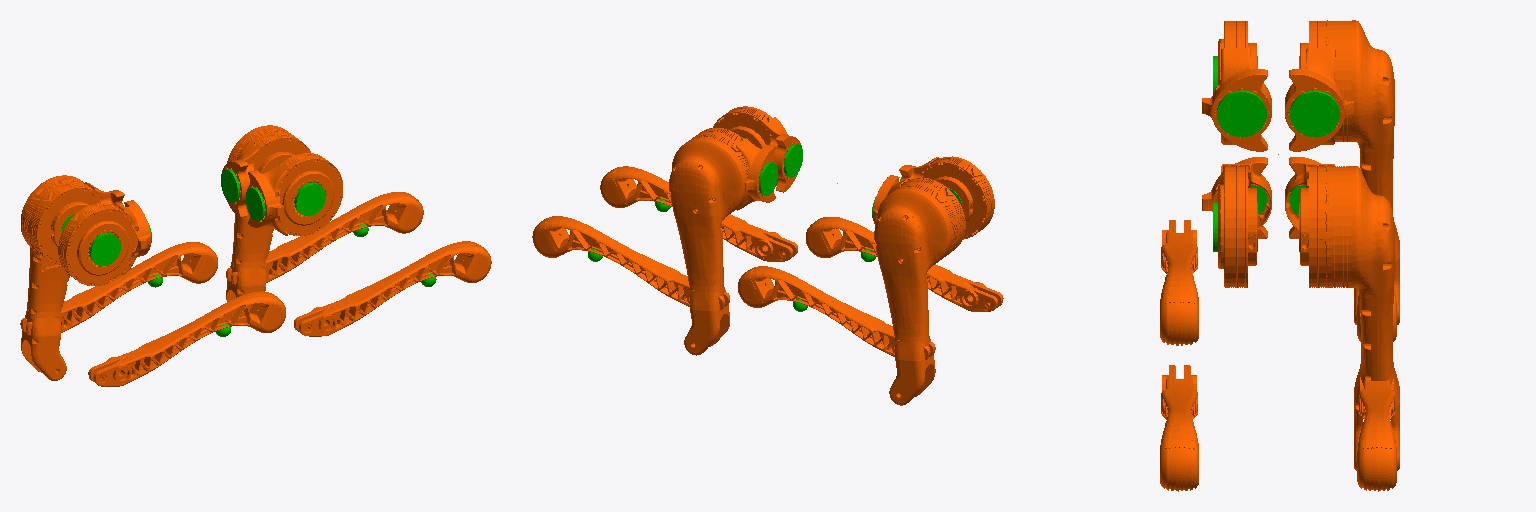
--- Facts derived from the render (not from the file) ---
Views: 3 orthographic renders of the robot side by side, from view 1: azimuth 30°, elevation 25°; view 2: azimuth 150°, elevation 25°; view 3: azimuth 270°, elevation 25°.
Model aliengo with 31 links and 30 joints (8 revolute, 4 continuous, 18 fixed), rooted at base, posed all joints at 0 but 4 set to mid-range because 0 is outside their limits (FR_calf_joint = -1.71, FL_calf_joint = -1.71, RR_calf_joint = -1.71, RL_calf_joint = -1.71).
Visible links, largest first — view 1: FR_calf, RR_calf, RL_thigh, RR_hip, FR_hip, FL_calf, RL_calf, FL_thigh, RL_hip, FL_hip, RR_thigh_rotor, FR_thigh_rotor; view 2: RL_thigh, FL_thigh, FL_calf, RL_calf, FR_calf, RR_calf, RR_hip, FR_hip, FL_hip, RL_hip; view 3: FL_thigh, RL_thigh, FR_hip, FR_calf, RR_calf, FL_hip, RR_hip, FL_calf, RL_hip, RR_hip_rotor, RL_hip_rotor.
Boxes of the visible links, bbox=[...] form: FR_calf: bbox=[294, 241, 491, 336]; RR_calf: bbox=[88, 291, 285, 386]; RL_thigh: bbox=[21, 175, 87, 380]; RR_hip: bbox=[58, 200, 150, 285]; FR_hip: bbox=[247, 153, 342, 235]; FL_calf: bbox=[226, 192, 423, 285]; RL_calf: bbox=[20, 242, 217, 335]; FL_thigh: bbox=[226, 125, 297, 330]; RL_hip: bbox=[29, 182, 124, 264]; FL_hip: bbox=[222, 132, 310, 217]; RR_thigh_rotor: bbox=[88, 232, 120, 265]; FR_thigh_rotor: bbox=[294, 182, 325, 215]; RL_thigh: bbox=[874, 182, 959, 405]; FL_thigh: bbox=[669, 132, 748, 355]; FL_calf: bbox=[532, 216, 729, 309]; RL_calf: bbox=[738, 266, 935, 359]; FR_calf: bbox=[600, 166, 797, 261]; RR_calf: bbox=[806, 217, 1003, 311]; RR_hip: bbox=[899, 156, 994, 239]; FR_hip: bbox=[713, 106, 801, 192]; FL_hip: bbox=[693, 128, 776, 210]; RL_hip: bbox=[873, 175, 965, 253]; FL_thigh: bbox=[1319, 166, 1399, 470]; RL_thigh: bbox=[1325, 20, 1399, 324]; FR_hip: bbox=[1202, 157, 1271, 287]; FR_calf: bbox=[1160, 365, 1198, 491]; RR_calf: bbox=[1160, 220, 1198, 345]; FL_hip: bbox=[1285, 157, 1334, 287]; RR_hip: bbox=[1202, 21, 1271, 151]; FL_calf: bbox=[1357, 377, 1396, 491]; RL_hip: bbox=[1285, 21, 1354, 151]; RR_hip_rotor: bbox=[1217, 90, 1266, 137]; RL_hip_rotor: bbox=[1290, 90, 1339, 137].
Bounding box of the posed robot: 0.9532 × 0.3351 × 0.4589 m (x, y, z).
10 mesh visuals loaded from 5 distinct referenced files (3 Collada DAE); not drawn: 3 (reference not matched to a file when rendering).

URDF robot description (aliengo):
<?xml version="1.0" ?>
<!-- =================================================================================== -->
<!-- |    This document was autogenerated by xacro from robot.xacro                    | -->
<!-- |    EDITING THIS FILE BY HAND IS NOT RECOMMENDED                                 | -->
<!-- =================================================================================== -->
<robot name="aliengo">
  <material name="black">
    <color rgba="0.0 0.0 0.0 1.0"/>
  </material>
  <material name="blue">
    <color rgba="0.0 0.0 0.8 1.0"/>
  </material>
  <material name="green">
    <color rgba="0.0 0.8 0.0 1.0"/>
  </material>
  <material name="grey">
    <color rgba="0.2 0.2 0.2 1.0"/>
  </material>
  <material name="silver">
    <color rgba="0.9137254901960784 0.9137254901960784 0.8470588235294118 1.0"/>
  </material>
  <material name="orange">
    <color rgba="1.0 0.4235294117647059 0.0392156862745098 1.0"/>
  </material>
  <material name="brown">
    <color rgba="0.8705882352941177 0.8117647058823529 0.7647058823529411 1.0"/>
  </material>
  <material name="red">
    <color rgba="0.8 0.0 0.0 1.0"/>
  </material>
  <material name="white">
    <color rgba="1.0 1.0 1.0 1.0"/>
  </material>
  <!-- ros_control plugin -->
  <gazebo>
    <plugin filename="libgazebo_ros_control.so" name="gazebo_ros_control">
      <robotNamespace>/aliengo_gazebo</robotNamespace>
      <robotSimType>gazebo_ros_control/DefaultRobotHWSim</robotSimType>
    </plugin>
  </gazebo>
  <!-- Show the trajectory of trunk center. -->
  <gazebo>
    <plugin filename="libLinkPlot3DPlugin.so" name="3dplot">
      <frequency>10</frequency>
      <plot>
        <link>base</link>
        <pose>0 0 0 0 0 0</pose>
        <material>Gazebo/Yellow</material>
      </plot>
    </plugin>
  </gazebo>
  <!-- Show the trajectory of foot. You can add another trajectory about another foot. -->
  <!-- <gazebo>
        <plugin name="3dplot" filename="libLinkPlot3DPlugin.so">
            <frequency>100</frequency>
            <plot>
                <link>FL_foot</link>
                <pose>0 0 0 0 0 0</pose>
                <material>Gazebo/Green</material>
            </plot>
        </plugin>
    </gazebo> -->
  <gazebo>
    <plugin filename="libgazebo_ros_force.so" name="gazebo_ros_force">
      <bodyName>trunk</bodyName>
      <topicName>/apply_force/trunk</topicName>
    </plugin>
  </gazebo>
  <gazebo reference="imu_link">
    <gravity>true</gravity>
    <sensor name="imu_sensor" type="imu">
      <always_on>true</always_on>
      <update_rate>1000</update_rate>
      <visualize>true</visualize>
      <topic>__default_topic__</topic>
      <plugin filename="libgazebo_ros_imu_sensor.so" name="imu_plugin">
        <topicName>trunk_imu</topicName>
        <bodyName>imu_link</bodyName>
        <updateRateHZ>1000.0</updateRateHZ>
        <gaussianNoise>0.0</gaussianNoise>
        <xyzOffset>0 0 0</xyzOffset>
        <rpyOffset>0 0 0</rpyOffset>
        <frameName>imu_link</frameName>
      </plugin>
      <pose>0 0 0 0 0 0</pose>
    </sensor>
  </gazebo>
  <!-- Foot contacts. -->
  <gazebo reference="FR_calf">
    <sensor name="FR_foot_contact" type="contact">
      <update_rate>100</update_rate>
      <plugin filename="libunitreeFootContactPlugin.so" name="contactPlugin"/>
      <contact>
        <collision>FR_calf_fixed_joint_lump__FR_foot_collision_1</collision>
      </contact>
    </sensor>
  </gazebo>
  <gazebo reference="FL_calf">
    <sensor name="FL_foot_contact" type="contact">
      <update_rate>100</update_rate>
      <plugin filename="libunitreeFootContactPlugin.so" name="contactPlugin"/>
      <contact>
        <collision>FL_calf_fixed_joint_lump__FL_foot_collision_1</collision>
      </contact>
    </sensor>
  </gazebo>
  <gazebo reference="RR_calf">
    <sensor name="RR_foot_contact" type="contact">
      <update_rate>100</update_rate>
      <plugin filename="libunitreeFootContactPlugin.so" name="contactPlugin"/>
      <contact>
        <collision>RR_calf_fixed_joint_lump__RR_foot_collision_1</collision>
      </contact>
    </sensor>
  </gazebo>
  <gazebo reference="RL_calf">
    <sensor name="RL_foot_contact" type="contact">
      <update_rate>100</update_rate>
      <plugin filename="libunitreeFootContactPlugin.so" name="contactPlugin"/>
      <contact>
        <collision>RL_calf_fixed_joint_lump__RL_foot_collision_1</collision>
      </contact>
    </sensor>
  </gazebo>
  <!-- Visualization of Foot contacts. -->
  <gazebo reference="FR_foot">
    <visual>
      <plugin filename="libunitreeDrawForcePlugin.so" name="drawForcePlugin">
        <topicName>FR_foot_contact</topicName>
      </plugin>
    </visual>
  </gazebo>
  <gazebo reference="FL_foot">
    <visual>
      <plugin filename="libunitreeDrawForcePlugin.so" name="drawForcePlugin">
        <topicName>FL_foot_contact</topicName>
      </plugin>
    </visual>
  </gazebo>
  <gazebo reference="RR_foot">
    <visual>
      <plugin filename="libunitreeDrawForcePlugin.so" name="drawForcePlugin">
        <topicName>RR_foot_contact</topicName>
      </plugin>
    </visual>
  </gazebo>
  <gazebo reference="RL_foot">
    <visual>
      <plugin filename="libunitreeDrawForcePlugin.so" name="drawForcePlugin">
        <topicName>RL_foot_contact</topicName>
      </plugin>
    </visual>
  </gazebo>
  <gazebo reference="base">
    <material>Gazebo/Green</material>
    <turnGravityOff>false</turnGravityOff>
  </gazebo>
  <gazebo reference="trunk">
    <mu1>0.2</mu1>
    <mu2>0.2</mu2>
    <kp value="1000000.0"/>
    <kd value="1.0"/>
  </gazebo>
  <gazebo reference="stick_link">
    <mu1>0.2</mu1>
    <mu2>0.2</mu2>
    <material>Gazebo/White</material>
  </gazebo>
  <gazebo reference="imu_link">
    <mu1>0.2</mu1>
    <mu2>0.2</mu2>
    <material>Gazebo/Red</material>
  </gazebo>
  <!-- FL leg -->
  <gazebo reference="FL_hip">
    <mu1>0.2</mu1>
    <mu2>0.2</mu2>
    <material>Gazebo/DarkGrey</material>
  </gazebo>
  <gazebo reference="FL_thigh">
    <mu1>0.2</mu1>
    <mu2>0.2</mu2>
    <self_collide>1</self_collide>
    <material>Gazebo/DarkGrey</material>
    <kp value="1000000.0"/>
    <kd value="1.0"/>
  </gazebo>
  <gazebo reference="FL_calf">
    <mu1>0.2</mu1>
    <mu2>0.2</mu2>
    <self_collide>1</self_collide>
  </gazebo>
  <gazebo reference="FL_foot">
    <mu1>0.6</mu1>
    <mu2>0.6</mu2>
    <self_collide>1</self_collide>
    <material>Gazebo/DarkGrey</material>
    <kp value="1000000.0"/>
    <kd value="1.0"/>
  </gazebo>
  <!-- FR leg -->
  <gazebo reference="FR_hip">
    <mu1>0.2</mu1>
    <mu2>0.2</mu2>
    <material>Gazebo/DarkGrey</material>
  </gazebo>
  <gazebo reference="FR_thigh">
    <mu1>0.2</mu1>
    <mu2>0.2</mu2>
    <self_collide>1</self_collide>
    <material>Gazebo/DarkGrey</material>
    <kp value="1000000.0"/>
    <kd value="1.0"/>
  </gazebo>
  <gazebo reference="FR_calf">
    <mu1>0.2</mu1>
    <mu2>0.2</mu2>
    <self_collide>1</self_collide>
  </gazebo>
  <gazebo reference="FR_foot">
    <mu1>0.6</mu1>
    <mu2>0.6</mu2>
    <self_collide>1</self_collide>
    <material>Gazebo/DarkGrey</material>
    <kp value="1000000.0"/>
    <kd value="1.0"/>
  </gazebo>
  <!-- RL leg -->
  <gazebo reference="RL_hip">
    <mu1>0.2</mu1>
    <mu2>0.2</mu2>
    <material>Gazebo/DarkGrey</material>
  </gazebo>
  <gazebo reference="RL_thigh">
    <mu1>0.2</mu1>
    <mu2>0.2</mu2>
    <self_collide>1</self_collide>
    <material>Gazebo/DarkGrey</material>
    <kp value="1000000.0"/>
    <kd value="1.0"/>
  </gazebo>
  <gazebo reference="RL_calf">
    <mu1>0.2</mu1>
    <mu2>0.2</mu2>
    <self_collide>1</self_collide>
  </gazebo>
  <gazebo reference="RL_foot">
    <mu1>0.6</mu1>
    <mu2>0.6</mu2>
    <self_collide>1</self_collide>
    <material>Gazebo/DarkGrey</material>
    <kp value="1000000.0"/>
    <kd value="1.0"/>
  </gazebo>
  <!-- RR leg -->
  <gazebo reference="RR_hip">
    <mu1>0.2</mu1>
    <mu2>0.2</mu2>
    <material>Gazebo/DarkGrey</material>
  </gazebo>
  <gazebo reference="RR_thigh">
    <mu1>0.2</mu1>
    <mu2>0.2</mu2>
    <self_collide>1</self_collide>
    <material>Gazebo/DarkGrey</material>
    <kp value="1000000.0"/>
    <kd value="1.0"/>
  </gazebo>
  <gazebo reference="RR_calf">
    <mu1>0.2</mu1>
    <mu2>0.2</mu2>
    <self_collide>1</self_collide>
  </gazebo>
  <gazebo reference="RR_foot">
    <mu1>0.6</mu1>
    <mu2>0.6</mu2>
    <self_collide>1</self_collide>
    <material>Gazebo/DarkGrey</material>
    <kp value="1000000.0"/>
    <kd value="1.0"/>
  </gazebo>
  <!-- Rotor related joint and link is only for demonstrate location. -->
  <!-- Actually, the rotor will rotate and the joint is not fixed. Reduction ratio should be considered. -->
  <!-- Debug mode will hung up the robot, use "true" or "false" to switch it. -->
  <!-- <xacro:if value="$(arg DEBUG)">
        <link name="world"/>
        <joint name="base_static_joint" type="fixed">
            <origin rpy="0 0 0" xyz="0 0 0"/>
            <parent link="world"/>
            <child link="base"/>
        </joint>
    </xacro:if>  -->
  <link name="base">
    <visual>
      <origin rpy="0 0 0" xyz="0 0 0"/>
      <geometry>
        <box size="0.001 0.001 0.001"/>
      </geometry>
    </visual>
  </link>
  <joint name="floating_base" type="fixed">
    <origin rpy="0 0 0" xyz="0 0 0"/>
    <parent link="base"/>
    <child link="trunk"/>
  </joint>
  <link name="trunk">
    <visual>
      <origin rpy="0 0 0" xyz="0 0 0"/>
      <geometry>
        <mesh filename="package://aliengo_description/meshes/trunk.dae" scale="1 1 1"/>
      </geometry>
      <material name="orange"/>
    </visual>
    <collision>
      <origin rpy="0 0 0" xyz="0 0 0"/>
      <geometry>
        <box size="0.647 0.15 0.112"/>
      </geometry>
    </collision>
    <!-- <collision>
            <origin rpy="0 0 0" xyz="0 0 0"/>
            <geometry>
                <mesh filename="package://aliengo_description/meshes/trunk.dae" scale="1 1 1"/>
            </geometry>
        </collision> -->
    <inertial>
      <origin rpy="0 0 0" xyz="0.008811 0.003839 0.000273"/>
      <mass value="11.644"/>
      <inertia ixx="0.051944892" ixy="0.001703617" ixz="0.000235941" iyy="0.24693924" iyz="0.000119783" izz="0.270948307"/>
    </inertial>
  </link>
  <joint name="imu_joint" type="fixed">
    <parent link="trunk"/>
    <child link="imu_link"/>
    <origin rpy="0 0 0" xyz="0 0 0"/>
  </joint>
  <link name="imu_link">
    <inertial>
      <mass value="0.001"/>
      <origin rpy="0 0 0" xyz="0 0 0"/>
      <inertia ixx="0.0001" ixy="0" ixz="0" iyy="0.000001" iyz="0" izz="0.0001"/>
    </inertial>
    <visual>
      <origin rpy="0 0 0" xyz="0 0 0"/>
      <geometry>
        <box size="0.001 0.001 0.001"/>
      </geometry>
      <material name="red"/>
    </visual>
    <collision>
      <origin rpy="0 0 0" xyz="0 0 0"/>
      <geometry>
        <box size=".001 .001 .001"/>
      </geometry>
    </collision>
  </link>
  <joint name="FR_hip_joint" type="revolute">
    <origin rpy="0 0 0" xyz="0.2407 -0.051 0"/>
    <parent link="trunk"/>
    <child link="FR_hip"/>
    <axis xyz="1 0 0"/>
    <dynamics damping="0" friction="0"/>
    <limit effort="35.278" lower="-1.2217304763960306" upper="1.2217304763960306" velocity="20"/>
  </joint>
  <joint name="FR_hip_rotor_joint" type="fixed">
    <origin rpy="0 0 0" xyz="0.139985 -0.051 0"/>
    <parent link="trunk"/>
    <child link="FR_hip_rotor"/>
  </joint>
  <link name="FR_hip">
    <visual>
      <origin rpy="3.141592653589793 0 0" xyz="0 0 0"/>
      <geometry>
        <mesh filename="package://aliengo_description/meshes/hip.dae" scale="1 1 1"/>
      </geometry>
      <material name="orange"/>
    </visual>
    <collision>
      <origin rpy="1.5707963267948966 0 0" xyz="0 -0.083 0"/>
      <geometry>
        <cylinder length="0.0418" radius="0.046"/>
      </geometry>
    </collision>
    <inertial>
      <origin rpy="0 0 0" xyz="-0.022191 -0.015144 -1.5e-05"/>
      <mass value="1.993"/>
      <inertia ixx="0.002446735" ixy="0.00059805" ixz="1.945e-06" iyy="0.003925876" iyz="-1.284e-06" izz="0.004148145"/>
    </inertial>
  </link>
  <link name="FR_hip_rotor">
    <visual>
      <origin rpy="0 1.5707963267948966 0" xyz="0 0 0"/>
      <geometry>
        <cylinder length="0.02" radius="0.035"/>
      </geometry>
      <material name="green"/>
    </visual>
    <collision>
      <origin rpy="0 1.5707963267948966 0" xyz="0 0 0"/>
      <geometry>
        <cylinder length="0.02" radius="0.035"/>
      </geometry>
    </collision>
    <inertial>
      <origin rpy="0 0 0" xyz="0.0 0.0 0.0"/>
      <mass value="0.146"/>
      <inertia ixx="0.000138702" ixy="0.0" ixz="0.0" iyy="8.3352e-05" iyz="0.0" izz="8.3352e-05"/>
    </inertial>
  </link>
  <joint name="FR_thigh_joint" type="continuous">
    <origin rpy="0 0 0" xyz="0 -0.0868 0"/>
    <parent link="FR_hip"/>
    <child link="FR_thigh"/>
    <axis xyz="0 1 0"/>
    <dynamics damping="0" friction="0"/>
    <limit effort="35.278" velocity="20"/>
  </joint>
  <joint name="FR_thigh_rotor_joint" type="fixed">
    <origin rpy="0 0 0" xyz="0.0 -0.0298 0"/>
    <parent link="FR_hip"/>
    <child link="FR_thigh_rotor"/>
  </joint>
  <link name="FR_thigh">
    <visual>
      <origin rpy="0 0 0" xyz="0 0 0"/>
      <geometry>
        <mesh filename="package://aliengo_description/meshes/thigh_mirror.dae" scale="1 1 1"/>
      </geometry>
      <material name="orange"/>
    </visual>
    <collision>
      <origin rpy="0 1.5707963267948966 0" xyz="0 0 -0.125"/>
      <geometry>
        <box size="0.25 0.0374 0.043"/>
      </geometry>
    </collision>
    <inertial>
      <origin rpy="0 0 0" xyz="-0.005607 0.003877 -0.048199"/>
      <mass value="0.639"/>
      <inertia ixx="0.004173855" ixy="-1.0284e-05" ixz="-0.000318874" iyy="0.004343802" iyz="-0.000109233" izz="0.000340136"/>
    </inertial>
  </link>
  <link name="FR_thigh_rotor">
    <visual>
      <origin rpy="1.5707963267948966 0 0" xyz="0 0 0"/>
      <geometry>
        <cylinder length="0.02" radius="0.035"/>
      </geometry>
      <material name="green"/>
    </visual>
    <collision>
      <origin rpy="1.5707963267948966 0 0" xyz="0 0 0"/>
      <geometry>
        <cylinder length="0.02" radius="0.035"/>
      </geometry>
    </collision>
    <inertial>
      <origin rpy="0 0 0" xyz="0.0 0.0 0.0"/>
      <mass value="0.146"/>
      <inertia ixx="8.3352e-05" ixy="0.0" ixz="0.0" iyy="0.000138702" iyz="0.0" izz="8.3352e-05"/>
    </inertial>
  </link>
  <joint name="FR_calf_joint" type="revolute">
    <origin rpy="0 0 0" xyz="0 0 -0.25"/>
    <parent link="FR_thigh"/>
    <child link="FR_calf"/>
    <axis xyz="0 1 0"/>
    <dynamics damping="0" friction="0"/>
    <limit effort="44.4" lower="-2.775073510670984" upper="-0.6457718232379019" velocity="15.89"/>
  </joint>
  <joint name="FR_calf_rotor_joint" type="fixed">
    <origin rpy="0 0 0" xyz="0.0 0.0997 0"/>
    <parent link="FR_thigh"/>
    <child link="FR_calf_rotor"/>
  </joint>
  <link name="FR_calf">
    <visual>
      <origin rpy="0 0 0" xyz="0 0 0"/>
      <geometry>
        <mesh filename="package://aliengo_description/meshes/calf.dae" scale="1 1 1"/>
      </geometry>
      <material name="orange"/>
    </visual>
    <collision>
      <origin rpy="0 1.5707963267948966 0" xyz="0 0 -0.125"/>
      <geometry>
        <box size="0.25 0.0208 0.016"/>
      </geometry>
    </collision>
    <inertial>
      <origin rpy="0 0 0" xyz="0.002781 6.3e-05 -0.142518"/>
      <mass value="0.207"/>
      <inertia ixx="0.002129279" ixy="3.9e-08" ixz="5.757e-06" iyy="0.002141463" iyz="-5.16e-07" izz="3.7583e-05"/>
    </inertial>
  </link>
  <link name="FR_calf_rotor">
    <visual>
      <origin rpy="1.5707963267948966 0 0" xyz="0 0 0"/>
      <geometry>
        <cylinder length="0.02" radius="0.035"/>
      </geometry>
      <material name="green"/>
    </visual>
    <collision>
      <origin rpy="1.5707963267948966 0 0" xyz="0 0 0"/>
      <geometry>
        <cylinder length="0.02" radius="0.035"/>
      </geometry>
    </collision>
    <inertial>
      <origin rpy="0 0 0" xyz="0.0 0.0 0.0"/>
      <mass value="0.132"/>
      <inertia ixx="0.000145463" ixy="0.0" ixz="0.0" iyy="0.000133031" iyz="0.0" izz="0.000145463"/>
    </inertial>
  </link>
  <joint name="FR_foot_fixed" type="fixed">
    <origin rpy="0 0 0" xyz="0 0 -0.25"/>
    <parent link="FR_calf"/>
    <child link="FR_foot"/>
  </joint>
  <link name="FR_foot">
    <visual>
      <origin rpy="0 0 0" xyz="0 0 0"/>
      <geometry>
        <sphere radius="0.0165"/>
      </geometry>
      <material name="green"/>
    </visual>
    <collision>
      <origin rpy="0 0 0" xyz="0 0 0"/>
      <geometry>
        <sphere radius="0.0265"/>
      </geometry>
    </collision>
    <inertial>
      <mass value="0.06"/>
      <inertia ixx="1.6853999999999998e-05" ixy="0.0" ixz="0.0" iyy="1.6853999999999998e-05" iyz="0.0" izz="1.6853999999999998e-05"/>
    </inertial>
  </link>
  <transmission name="FR_hip_tran">
    <type>transmission_interface/SimpleTransmission</type>
    <joint name="FR_hip_joint">
      <hardwareInterface>hardware_interface/EffortJointInterface</hardwareInterface>
    </joint>
    <actuator name="FR_hip_motor">
      <hardwareInterface>hardware_interface/EffortJointInterface</hardwareInterface>
      <mechanicalReduction>1</mechanicalReduction>
    </actuator>
  </transmission>
  <transmission name="FR_thigh_tran">
    <type>transmission_interface/SimpleTransmission</type>
    <joint name="FR_thigh_joint">
      <hardwareInterface>hardware_interface/EffortJointInterface</hardwareInterface>
    </joint>
    <actuator name="FR_thigh_motor">
      <hardwareInterface>hardware_interface/EffortJointInterface</hardwareInterface>
      <mechanicalReduction>1</mechanicalReduction>
    </actuator>
  </transmission>
  <transmission name="FR_calf_tran">
    <type>transmission_interface/SimpleTransmission</type>
    <joint name="FR_calf_joint">
      <hardwareInterface>hardware_interface/EffortJointInterface</hardwareInterface>
    </joint>
    <actuator name="FR_calf_motor">
      <hardwareInterface>hardware_interface/EffortJointInterface</hardwareInterface>
      <mechanicalReduction>1</mechanicalReduction>
    </actuator>
  </transmission>
  <joint name="FL_hip_joint" type="revolute">
    <origin rpy="0 0 0" xyz="0.2407 0.051 0"/>
    <parent link="trunk"/>
    <child link="FL_hip"/>
    <axis xyz="1 0 0"/>
    <dynamics damping="0" friction="0"/>
    <limit effort="35.278" lower="-1.2217304763960306" upper="1.2217304763960306" velocity="20"/>
  </joint>
  <joint name="FL_hip_rotor_joint" type="fixed">
    <origin rpy="0 0 0" xyz="0.139985 0.051 0"/>
    <parent link="trunk"/>
    <child link="FL_hip_rotor"/>
  </joint>
  <link name="FL_hip">
    <visual>
      <origin rpy="0 0 0" xyz="0 0 0"/>
      <geometry>
        <mesh filename="package://aliengo_description/meshes/hip.dae" scale="1 1 1"/>
      </geometry>
      <material name="orange"/>
    </visual>
    <collision>
      <origin rpy="1.5707963267948966 0 0" xyz="0 0.083 0"/>
      <geometry>
        <cylinder length="0.0418" radius="0.046"/>
      </geometry>
    </collision>
    <inertial>
      <origin rpy="0 0 0" xyz="-0.022191 0.015144 -1.5e-05"/>
      <mass value="1.993"/>
      <inertia ixx="0.002446735" ixy="-0.00059805" ixz="1.945e-06" iyy="0.003925876" iyz="1.284e-06" izz="0.004148145"/>
    </inertial>
  </link>
  <link name="FL_hip_rotor">
    <visual>
      <origin rpy="0 1.5707963267948966 0" xyz="0 0 0"/>
      <geometry>
        <cylinder length="0.02" radius="0.035"/>
      </geometry>
      <material name="green"/>
    </visual>
    <collision>
      <origin rpy="0 1.5707963267948966 0" xyz="0 0 0"/>
      <geometry>
        <cylinder length="0.02" radius="0.035"/>
      </geometry>
    </collision>
    <inertial>
      <origin rpy="0 0 0" xyz="0.0 0.0 0.0"/>
      <mass value="0.146"/>
      <inertia ixx="0.000138702" ixy="0.0" ixz="0.0" iyy="8.3352e-05" iyz="0.0" izz="8.3352e-05"/>
    </inertial>
  </link>
  <joint name="FL_thigh_joint" type="continuous">
    <origin rpy="0 0 0" xyz="0 0.0868 0"/>
    <parent link="FL_hip"/>
    <child link="FL_thigh"/>
    <axis xyz="0 1 0"/>
    <dynamics damping="0" friction="0"/>
    <limit effort="35.278" velocity="20"/>
  </joint>
  <joint name="FL_thigh_rotor_joint" type="fixed">
    <origin rpy="0 0 0" xyz="0.0 0.0298 0"/>
    <parent link="FL_hip"/>
    <child link="FL_thigh_rotor"/>
  </joint>
  <link name="FL_thigh">
    <visual>
      <origin rpy="0 0 0" xyz="0 0 0"/>
      <geometry>
        <mesh filename="package://aliengo_description/meshes/thigh.dae" scale="1 1 1"/>
      </geometry>
      <material name="orange"/>
    </visual>
    <collision>
      <origin rpy="0 1.5707963267948966 0" xyz="0 0 -0.125"/>
      <geometry>
        <box size="0.25 0.0374 0.043"/>
      </geometry>
    </collision>
    <inertial>
      <origin rpy="0 0 0" xyz="-0.005607 -0.003877 -0.048199"/>
      <mass value="0.639"/>
      <inertia ixx="0.004173855" ixy="1.0284e-05" ixz="-0.000318874" iyy="0.004343802" iyz="0.000109233" izz="0.000340136"/>
    </inertial>
  </link>
  <link name="FL_thigh_rotor">
    <visual>
      <origin rpy="1.5707963267948966 0 0" xyz="0 0 0"/>
      <geometry>
        <cylinder length="0.02" radius="0.035"/>
      </geometry>
      <material name="green"/>
    </visual>
    <collision>
      <origin rpy="1.5707963267948966 0 0" xyz="0 0 0"/>
      <geometry>
        <cylinder length="0.02" radius="0.035"/>
      </geometry>
    </collision>
    <inertial>
      <origin rpy="0 0 0" xyz="0.0 0.0 0.0"/>
      <mass value="0.146"/>
      <inertia ixx="8.3352e-05" ixy="0.0" ixz="0.0" iyy="0.000138702" iyz="0.0" izz="8.3352e-05"/>
    </inertial>
  </link>
  <joint name="FL_calf_joint" type="revolute">
    <origin rpy="0 0 0" xyz="0 0 -0.25"/>
    <parent link="FL_thigh"/>
    <child link="FL_calf"/>
    <axis xyz="0 1 0"/>
    <dynamics damping="0" friction="0"/>
    <limit effort="44.4" lower="-2.775073510670984" upper="-0.6457718232379019" velocity="15.89"/>
  </joint>
  <joint name="FL_calf_rotor_joint" type="fixed">
    <origin rpy="0 0 0" xyz="0.0 -0.0997 0"/>
    <parent link="FL_thigh"/>
    <child link="FL_calf_rotor"/>
  </joint>
  <link name="FL_calf">
    <visual>
      <origin rpy="0 0 0" xyz="0 0 0"/>
      <geometry>
        <mesh filename="package://aliengo_description/meshes/calf.dae" scale="1 1 1"/>
      </geometry>
      <material name="orange"/>
    </visual>
    <collision>
      <origin rpy="0 1.5707963267948966 0" xyz="0 0 -0.125"/>
      <geometry>
        <box size="0.25 0.0208 0.016"/>
      </geometry>
    </collision>
    <inertial>
      <origin rpy="0 0 0" xyz="0.002781 6.3e-05 -0.142518"/>
      <mass value="0.207"/>
      <inertia ixx="0.002129279" ixy="3.9e-08" ixz="5.757e-06" iyy="0.002141463" iyz="-5.16e-07" izz="3.7583e-05"/>
    </inertial>
  </link>
  <link name="FL_calf_rotor">
    <visual>
      <origin rpy="1.5707963267948966 0 0" xyz="0 0 0"/>
      <geometry>
        <cylinder length="0.02" radius="0.035"/>
      </geometry>
      <material name="green"/>
    </visual>
    <collision>
      <origin rpy="1.5707963267948966 0 0" xyz="0 0 0"/>
      <geometry>
        <cylinder length="0.02" radius="0.035"/>
      </geometry>
    </collision>
    <inertial>
      <origin rpy="0 0 0" xyz="0.0 0.0 0.0"/>
      <mass value="0.132"/>
      <inertia ixx="0.000145463" ixy="0.0" ixz="0.0" iyy="0.000133031" iyz="0.0" izz="0.000145463"/>
    </inertial>
  </link>
  <joint name="FL_foot_fixed" type="fixed">
    <origin rpy="0 0 0" xyz="0 0 -0.25"/>
    <parent link="FL_calf"/>
    <child link="FL_foot"/>
  </joint>
  <link name="FL_foot">
    <visual>
      <origin rpy="0 0 0" xyz="0 0 0"/>
      <geometry>
        <sphere radius="0.0165"/>
      </geometry>
      <material name="green"/>
    </visual>
    <collision>
      <origin rpy="0 0 0" xyz="0 0 0"/>
      <geometry>
        <sphere radius="0.0265"/>
      </geometry>
    </collision>
    <inertial>
      <mass value="0.06"/>
      <inertia ixx="1.6853999999999998e-05" ixy="0.0" ixz="0.0" iyy="1.6853999999999998e-05" iyz="0.0" izz="1.6853999999999998e-05"/>
    </inertial>
  </link>
  <transmission name="FL_hip_tran">
    <type>transmission_interface/SimpleTransmission</type>
    <joint name="FL_hip_joint">
      <hardwareInterface>hardware_interface/EffortJointInterface</hardwareInterface>
    </joint>
    <actuator name="FL_hip_motor">
      <hardwareInterface>hardware_interface/EffortJointInterface</hardwareInterface>
      <mechanicalReduction>1</mechanicalReduction>
    </actuator>
  </transmission>
  <transmission name="FL_thigh_tran">
    <type>transmission_interface/SimpleTransmission</type>
    <joint name="FL_thigh_joint">
      <hardwareInterface>hardware_interface/EffortJointInterface</hardwareInterface>
    </joint>
    <actuator name="FL_thigh_motor">
      <hardwareInterface>hardware_interface/EffortJointInterface</hardwareInterface>
      <mechanicalReduction>1</mechanicalReduction>
    </actuator>
  </transmission>
  <transmission name="FL_calf_tran">
    <type>transmission_interface/SimpleTransmission</type>
    <joint name="FL_calf_joint">
      <hardwareInterface>hardware_interface/EffortJointInterface</hardwareInterface>
    </joint>
    <actuator name="FL_calf_motor">
      <hardwareInterface>hardware_interface/EffortJointInterface</hardwareInterface>
      <mechanicalReduction>1</mechanicalReduction>
    </actuator>
  </transmission>
  <joint name="RR_hip_joint" type="revolute">
    <origin rpy="0 0 0" xyz="-0.2407 -0.051 0"/>
    <parent link="trunk"/>
    <child link="RR_hip"/>
    <axis xyz="1 0 0"/>
    <dynamics damping="0" friction="0"/>
    <limit effort="35.278" lower="-1.2217304763960306" upper="1.2217304763960306" velocity="20"/>
  </joint>
  <joint name="RR_hip_rotor_joint" type="fixed">
    <origin rpy="0 0 0" xyz="-0.139985 -0.051 0"/>
    <parent link="trunk"/>
    <child link="RR_hip_rotor"/>
  </joint>
  <link name="RR_hip">
    <visual>
      <origin rpy="3.141592653589793 3.141592653589793 0" xyz="0 0 0"/>
      <geometry>
        <mesh filename="package://aliengo_description/meshes/hip.dae" scale="1 1 1"/>
      </geometry>
      <material name="orange"/>
    </visual>
    <collision>
      <origin rpy="1.5707963267948966 0 0" xyz="0 -0.083 0"/>
      <geometry>
        <cylinder length="0.0418" radius="0.046"/>
      </geometry>
    </collision>
    <inertial>
      <origin rpy="0 0 0" xyz="0.022191 -0.015144 -1.5e-05"/>
      <mass value="1.993"/>
      <inertia ixx="0.002446735" ixy="-0.00059805" ixz="-1.945e-06" iyy="0.003925876" iyz="-1.284e-06" izz="0.004148145"/>
    </inertial>
  </link>
  <link name="RR_hip_rotor">
    <visual>
      <origin rpy="0 1.5707963267948966 0" xyz="0 0 0"/>
      <geometry>
        <cylinder length="0.02" radius="0.035"/>
      </geometry>
      <material name="green"/>
    </visual>
    <collision>
      <origin rpy="0 1.5707963267948966 0" xyz="0 0 0"/>
      <geometry>
        <cylinder length="0.02" radius="0.035"/>
      </geometry>
    </collision>
    <inertial>
      <origin rpy="0 0 0" xyz="0.0 0.0 0.0"/>
      <mass value="0.146"/>
      <inertia ixx="0.000138702" ixy="0.0" ixz="0.0" iyy="8.3352e-05" iyz="0.0" izz="8.3352e-05"/>
    </inertial>
  </link>
  <joint name="RR_thigh_joint" type="continuous">
    <origin rpy="0 0 0" xyz="0 -0.0868 0"/>
    <parent link="RR_hip"/>
    <child link="RR_thigh"/>
    <axis xyz="0 1 0"/>
    <dynamics damping="0" friction="0"/>
    <limit effort="35.278" velocity="20"/>
  </joint>
  <joint name="RR_thigh_rotor_joint" type="fixed">
    <origin rpy="0 0 0" xyz="0.0 -0.0298 0"/>
    <parent link="RR_hip"/>
    <child link="RR_thigh_rotor"/>
  </joint>
  <link name="RR_thigh">
    <visual>
      <origin rpy="0 0 0" xyz="0 0 0"/>
      <geometry>
        <mesh filename="package://aliengo_description/meshes/thigh_mirror.dae" scale="1 1 1"/>
      </geometry>
      <material name="orange"/>
    </visual>
    <collision>
      <origin rpy="0 1.5707963267948966 0" xyz="0 0 -0.125"/>
      <geometry>
        <box size="0.25 0.0374 0.043"/>
      </geometry>
    </collision>
    <inertial>
      <origin rpy="0 0 0" xyz="-0.005607 0.003877 -0.048199"/>
      <mass value="0.639"/>
      <inertia ixx="0.004173855" ixy="-1.0284e-05" ixz="-0.000318874" iyy="0.004343802" iyz="-0.000109233" izz="0.000340136"/>
    </inertial>
  </link>
  <link name="RR_thigh_rotor">
    <visual>
      <origin rpy="1.5707963267948966 0 0" xyz="0 0 0"/>
      <geometry>
        <cylinder length="0.02" radius="0.035"/>
      </geometry>
      <material name="green"/>
    </visual>
    <collision>
      <origin rpy="1.5707963267948966 0 0" xyz="0 0 0"/>
      <geometry>
        <cylinder length="0.02" radius="0.035"/>
      </geometry>
    </collision>
    <inertial>
      <origin rpy="0 0 0" xyz="0.0 0.0 0.0"/>
      <mass value="0.146"/>
      <inertia ixx="8.3352e-05" ixy="0.0" ixz="0.0" iyy="0.000138702" iyz="0.0" izz="8.3352e-05"/>
    </inertial>
  </link>
  <joint name="RR_calf_joint" type="revolute">
    <origin rpy="0 0 0" xyz="0 0 -0.25"/>
    <parent link="RR_thigh"/>
    <child link="RR_calf"/>
    <axis xyz="0 1 0"/>
    <dynamics damping="0" friction="0"/>
    <limit effort="44.4" lower="-2.775073510670984" upper="-0.6457718232379019" velocity="15.89"/>
  </joint>
  <joint name="RR_calf_rotor_joint" type="fixed">
    <origin rpy="0 0 0" xyz="0.0 0.0997 0"/>
    <parent link="RR_thigh"/>
    <child link="RR_calf_rotor"/>
  </joint>
  <link name="RR_calf">
    <visual>
      <origin rpy="0 0 0" xyz="0 0 0"/>
      <geometry>
        <mesh filename="package://aliengo_description/meshes/calf.dae" scale="1 1 1"/>
      </geometry>
      <material name="orange"/>
    </visual>
    <collision>
      <origin rpy="0 1.5707963267948966 0" xyz="0 0 -0.125"/>
      <geometry>
        <box size="0.25 0.0208 0.016"/>
      </geometry>
    </collision>
    <inertial>
      <origin rpy="0 0 0" xyz="0.002781 6.3e-05 -0.142518"/>
      <mass value="0.207"/>
      <inertia ixx="0.002129279" ixy="3.9e-08" ixz="5.757e-06" iyy="0.002141463" iyz="-5.16e-07" izz="3.7583e-05"/>
    </inertial>
  </link>
  <link name="RR_calf_rotor">
    <visual>
      <origin rpy="1.5707963267948966 0 0" xyz="0 0 0"/>
      <geometry>
        <cylinder length="0.02" radius="0.035"/>
      </geometry>
      <material name="green"/>
    </visual>
    <collision>
      <origin rpy="1.5707963267948966 0 0" xyz="0 0 0"/>
      <geometry>
        <cylinder length="0.02" radius="0.035"/>
      </geometry>
    </collision>
    <inertial>
      <origin rpy="0 0 0" xyz="0.0 0.0 0.0"/>
      <mass value="0.132"/>
      <inertia ixx="0.000145463" ixy="0.0" ixz="0.0" iyy="0.000133031" iyz="0.0" izz="0.000145463"/>
    </inertial>
  </link>
  <joint name="RR_foot_fixed" type="fixed">
    <origin rpy="0 0 0" xyz="0 0 -0.25"/>
    <parent link="RR_calf"/>
    <child link="RR_foot"/>
  </joint>
  <link name="RR_foot">
    <visual>
      <origin rpy="0 0 0" xyz="0 0 0"/>
      <geometry>
        <sphere radius="0.0165"/>
      </geometry>
      <material name="green"/>
    </visual>
    <collision>
      <origin rpy="0 0 0" xyz="0 0 0"/>
      <geometry>
        <sphere radius="0.0265"/>
      </geometry>
    </collision>
    <inertial>
      <mass value="0.06"/>
      <inertia ixx="1.6853999999999998e-05" ixy="0.0" ixz="0.0" iyy="1.6853999999999998e-05" iyz="0.0" izz="1.6853999999999998e-05"/>
    </inertial>
  </link>
  <transmission name="RR_hip_tran">
    <type>transmission_interface/SimpleTransmission</type>
    <joint name="RR_hip_joint">
      <hardwareInterface>hardware_interface/EffortJointInterface</hardwareInterface>
    </joint>
    <actuator name="RR_hip_motor">
      <hardwareInterface>hardware_interface/EffortJointInterface</hardwareInterface>
      <mechanicalReduction>1</mechanicalReduction>
    </actuator>
  </transmission>
  <transmission name="RR_thigh_tran">
    <type>transmission_interface/SimpleTransmission</type>
    <joint name="RR_thigh_joint">
      <hardwareInterface>hardware_interface/EffortJointInterface</hardwareInterface>
    </joint>
    <actuator name="RR_thigh_motor">
      <hardwareInterface>hardware_interface/EffortJointInterface</hardwareInterface>
      <mechanicalReduction>1</mechanicalReduction>
    </actuator>
  </transmission>
  <transmission name="RR_calf_tran">
    <type>transmission_interface/SimpleTransmission</type>
    <joint name="RR_calf_joint">
      <hardwareInterface>hardware_interface/EffortJointInterface</hardwareInterface>
    </joint>
    <actuator name="RR_calf_motor">
      <hardwareInterface>hardware_interface/EffortJointInterface</hardwareInterface>
      <mechanicalReduction>1</mechanicalReduction>
    </actuator>
  </transmission>
  <joint name="RL_hip_joint" type="revolute">
    <origin rpy="0 0 0" xyz="-0.2407 0.051 0"/>
    <parent link="trunk"/>
    <child link="RL_hip"/>
    <axis xyz="1 0 0"/>
    <dynamics damping="0" friction="0"/>
    <limit effort="35.278" lower="-1.2217304763960306" upper="1.2217304763960306" velocity="20"/>
  </joint>
  <joint name="RL_hip_rotor_joint" type="fixed">
    <origin rpy="0 0 0" xyz="-0.139985 0.051 0"/>
    <parent link="trunk"/>
    <child link="RL_hip_rotor"/>
  </joint>
  <link name="RL_hip">
    <visual>
      <origin rpy="0 3.141592653589793 0" xyz="0 0 0"/>
      <geometry>
        <mesh filename="package://aliengo_description/meshes/hip.dae" scale="1 1 1"/>
      </geometry>
      <material name="orange"/>
    </visual>
    <collision>
      <origin rpy="1.5707963267948966 0 0" xyz="0 0.083 0"/>
      <geometry>
        <cylinder length="0.0418" radius="0.046"/>
      </geometry>
    </collision>
    <inertial>
      <origin rpy="0 0 0" xyz="0.022191 0.015144 -1.5e-05"/>
      <mass value="1.993"/>
      <inertia ixx="0.002446735" ixy="0.00059805" ixz="-1.945e-06" iyy="0.003925876" iyz="1.284e-06" izz="0.004148145"/>
    </inertial>
  </link>
  <link name="RL_hip_rotor">
    <visual>
      <origin rpy="0 1.5707963267948966 0" xyz="0 0 0"/>
      <geometry>
        <cylinder length="0.02" radius="0.035"/>
      </geometry>
      <material name="green"/>
    </visual>
    <collision>
      <origin rpy="0 1.5707963267948966 0" xyz="0 0 0"/>
      <geometry>
        <cylinder length="0.02" radius="0.035"/>
      </geometry>
    </collision>
    <inertial>
      <origin rpy="0 0 0" xyz="0.0 0.0 0.0"/>
      <mass value="0.146"/>
      <inertia ixx="0.000138702" ixy="0.0" ixz="0.0" iyy="8.3352e-05" iyz="0.0" izz="8.3352e-05"/>
    </inertial>
  </link>
  <joint name="RL_thigh_joint" type="continuous">
    <origin rpy="0 0 0" xyz="0 0.0868 0"/>
    <parent link="RL_hip"/>
    <child link="RL_thigh"/>
    <axis xyz="0 1 0"/>
    <dynamics damping="0" friction="0"/>
    <limit effort="35.278" velocity="20"/>
  </joint>
  <joint name="RL_thigh_rotor_joint" type="fixed">
    <origin rpy="0 0 0" xyz="0.0 0.0298 0"/>
    <parent link="RL_hip"/>
    <child link="RL_thigh_rotor"/>
  </joint>
  <link name="RL_thigh">
    <visual>
      <origin rpy="0 0 0" xyz="0 0 0"/>
      <geometry>
        <mesh filename="package://aliengo_description/meshes/thigh.dae" scale="1 1 1"/>
      </geometry>
      <material name="orange"/>
    </visual>
    <collision>
      <origin rpy="0 1.5707963267948966 0" xyz="0 0 -0.125"/>
      <geometry>
        <box size="0.25 0.0374 0.043"/>
      </geometry>
    </collision>
    <inertial>
      <origin rpy="0 0 0" xyz="-0.005607 -0.003877 -0.048199"/>
      <mass value="0.639"/>
      <inertia ixx="0.004173855" ixy="1.0284e-05" ixz="-0.000318874" iyy="0.004343802" iyz="0.000109233" izz="0.000340136"/>
    </inertial>
  </link>
  <link name="RL_thigh_rotor">
    <visual>
      <origin rpy="1.5707963267948966 0 0" xyz="0 0 0"/>
      <geometry>
        <cylinder length="0.02" radius="0.035"/>
      </geometry>
      <material name="green"/>
    </visual>
    <collision>
      <origin rpy="1.5707963267948966 0 0" xyz="0 0 0"/>
      <geometry>
        <cylinder length="0.02" radius="0.035"/>
      </geometry>
    </collision>
    <inertial>
      <origin rpy="0 0 0" xyz="0.0 0.0 0.0"/>
      <mass value="0.146"/>
      <inertia ixx="8.3352e-05" ixy="0.0" ixz="0.0" iyy="0.000138702" iyz="0.0" izz="8.3352e-05"/>
    </inertial>
  </link>
  <joint name="RL_calf_joint" type="revolute">
    <origin rpy="0 0 0" xyz="0 0 -0.25"/>
    <parent link="RL_thigh"/>
    <child link="RL_calf"/>
    <axis xyz="0 1 0"/>
    <dynamics damping="0" friction="0"/>
    <limit effort="44.4" lower="-2.775073510670984" upper="-0.6457718232379019" velocity="15.89"/>
  </joint>
  <joint name="RL_calf_rotor_joint" type="fixed">
    <origin rpy="0 0 0" xyz="0.0 -0.0997 0"/>
    <parent link="RL_thigh"/>
    <child link="RL_calf_rotor"/>
  </joint>
  <link name="RL_calf">
    <visual>
      <origin rpy="0 0 0" xyz="0 0 0"/>
      <geometry>
        <mesh filename="package://aliengo_description/meshes/calf.dae" scale="1 1 1"/>
      </geometry>
      <material name="orange"/>
    </visual>
    <collision>
      <origin rpy="0 1.5707963267948966 0" xyz="0 0 -0.125"/>
      <geometry>
        <box size="0.25 0.0208 0.016"/>
      </geometry>
    </collision>
    <inertial>
      <origin rpy="0 0 0" xyz="0.002781 6.3e-05 -0.142518"/>
      <mass value="0.207"/>
      <inertia ixx="0.002129279" ixy="3.9e-08" ixz="5.757e-06" iyy="0.002141463" iyz="-5.16e-07" izz="3.7583e-05"/>
    </inertial>
  </link>
  <link name="RL_calf_rotor">
    <visual>
      <origin rpy="1.5707963267948966 0 0" xyz="0 0 0"/>
      <geometry>
        <cylinder length="0.02" radius="0.035"/>
      </geometry>
      <material name="green"/>
    </visual>
    <collision>
      <origin rpy="1.5707963267948966 0 0" xyz="0 0 0"/>
      <geometry>
        <cylinder length="0.02" radius="0.035"/>
      </geometry>
    </collision>
    <inertial>
      <origin rpy="0 0 0" xyz="0.0 0.0 0.0"/>
      <mass value="0.132"/>
      <inertia ixx="0.000145463" ixy="0.0" ixz="0.0" iyy="0.000133031" iyz="0.0" izz="0.000145463"/>
    </inertial>
  </link>
  <joint name="RL_foot_fixed" type="fixed">
    <origin rpy="0 0 0" xyz="0 0 -0.25"/>
    <parent link="RL_calf"/>
    <child link="RL_foot"/>
  </joint>
  <link name="RL_foot">
    <visual>
      <origin rpy="0 0 0" xyz="0 0 0"/>
      <geometry>
        <sphere radius="0.0165"/>
      </geometry>
      <material name="green"/>
    </visual>
    <collision>
      <origin rpy="0 0 0" xyz="0 0 0"/>
      <geometry>
        <sphere radius="0.0265"/>
      </geometry>
    </collision>
    <inertial>
      <mass value="0.06"/>
      <inertia ixx="1.6853999999999998e-05" ixy="0.0" ixz="0.0" iyy="1.6853999999999998e-05" iyz="0.0" izz="1.6853999999999998e-05"/>
    </inertial>
  </link>
  <transmission name="RL_hip_tran">
    <type>transmission_interface/SimpleTransmission</type>
    <joint name="RL_hip_joint">
      <hardwareInterface>hardware_interface/EffortJointInterface</hardwareInterface>
    </joint>
    <actuator name="RL_hip_motor">
      <hardwareInterface>hardware_interface/EffortJointInterface</hardwareInterface>
      <mechanicalReduction>1</mechanicalReduction>
    </actuator>
  </transmission>
  <transmission name="RL_thigh_tran">
    <type>transmission_interface/SimpleTransmission</type>
    <joint name="RL_thigh_joint">
      <hardwareInterface>hardware_interface/EffortJointInterface</hardwareInterface>
    </joint>
    <actuator name="RL_thigh_motor">
      <hardwareInterface>hardware_interface/EffortJointInterface</hardwareInterface>
      <mechanicalReduction>1</mechanicalReduction>
    </actuator>
  </transmission>
  <transmission name="RL_calf_tran">
    <type>transmission_interface/SimpleTransmission</type>
    <joint name="RL_calf_joint">
      <hardwareInterface>hardware_interface/EffortJointInterface</hardwareInterface>
    </joint>
    <actuator name="RL_calf_motor">
      <hardwareInterface>hardware_interface/EffortJointInterface</hardwareInterface>
      <mechanicalReduction>1</mechanicalReduction>
    </actuator>
  </transmission>
  <!-- <xacro:stairs stairs="15" xpos="0" ypos="2.0" zpos="0" /> -->
</robot>
